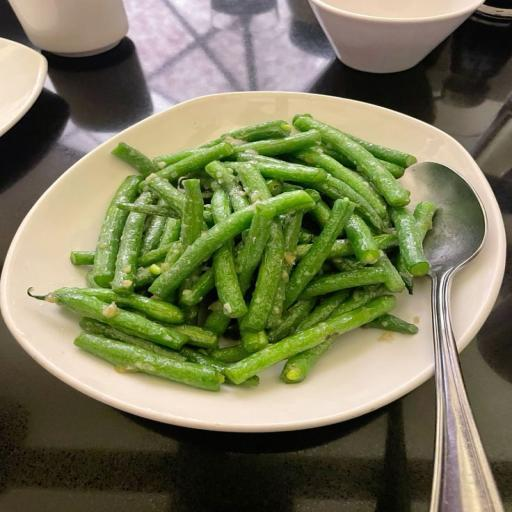buncis_rebus: (18, 102, 428, 386)
